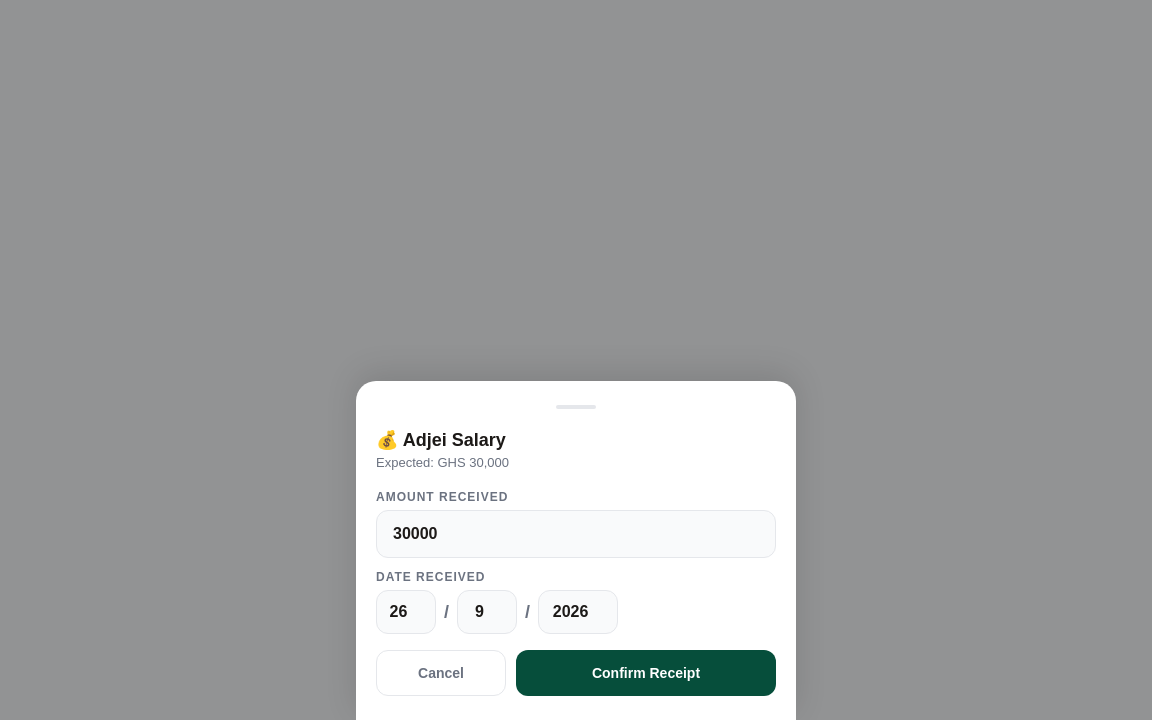
Test: ConfirmSheet › shows error for day > 31 on confirm
The image size is (1152, 720).
Replace the text in the number field with test id "confirm-date-day" with "50" at coordinates (406, 612), box [376,590,436,634]
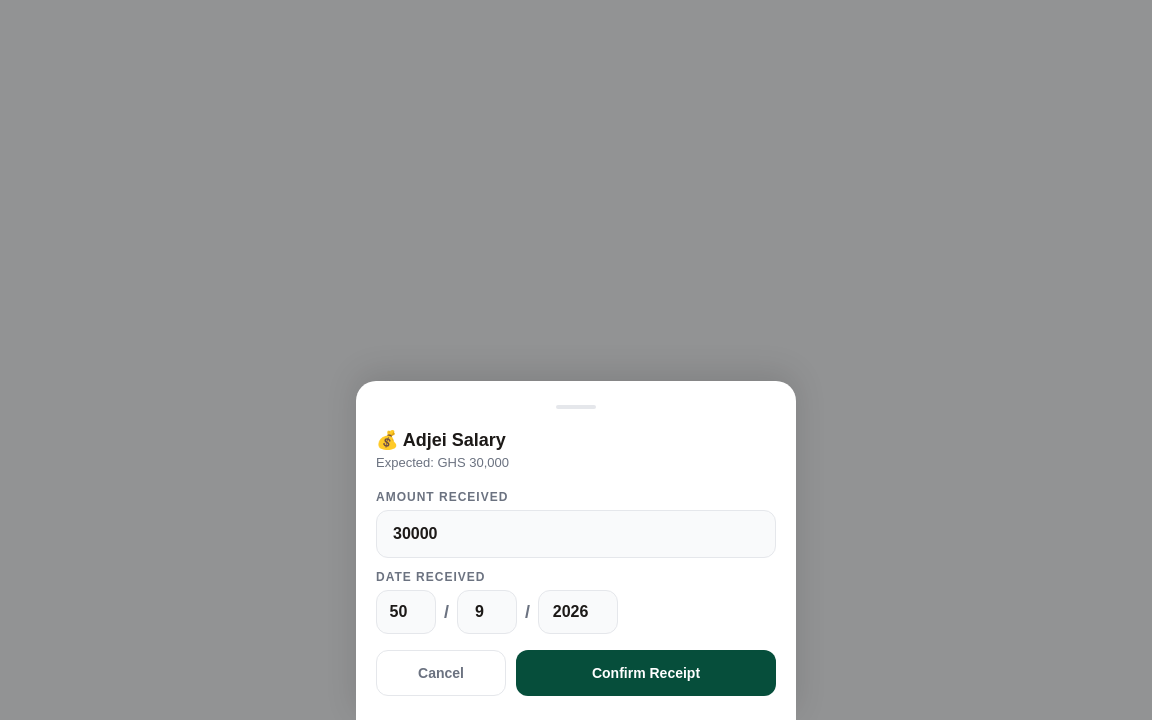
Click the button "Confirm Receipt" at coordinates (646, 673), box [516,650,776,696]
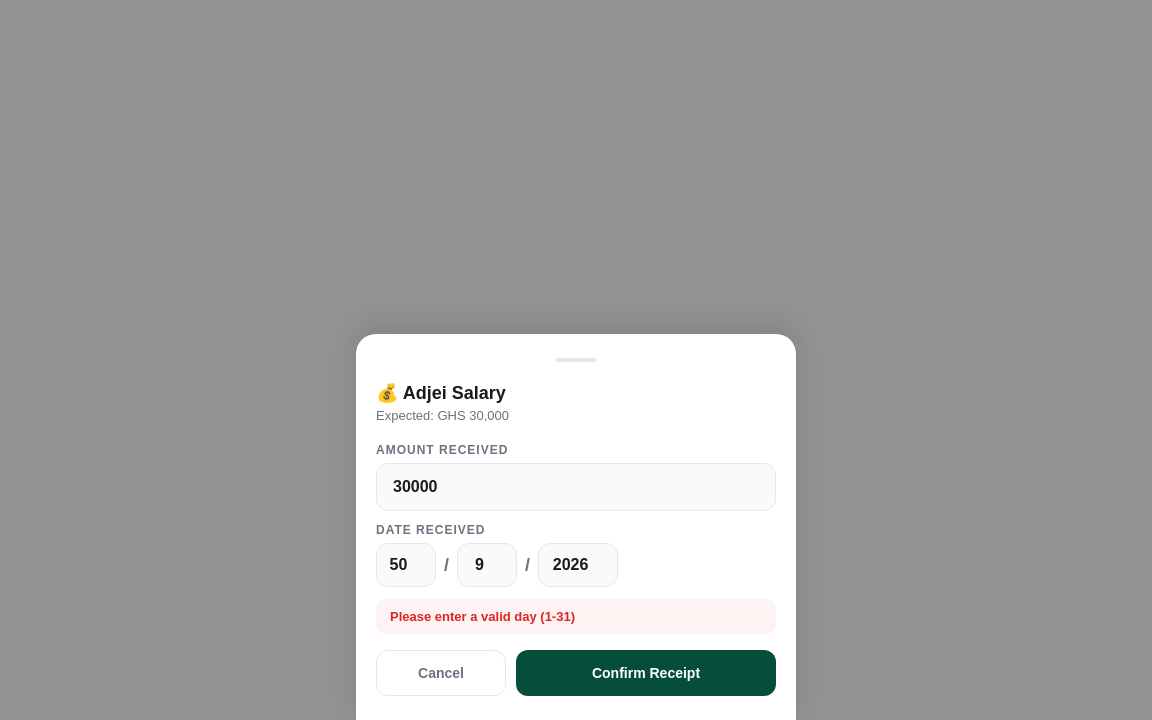
Expected: the text "Please enter a valid day (1-31)" is shown, [390,609,575,624]
